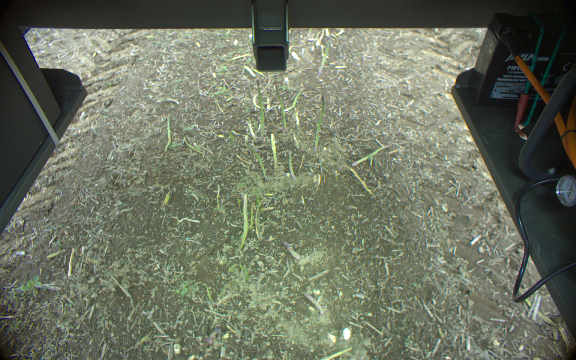aspa: (252, 75, 268, 140), (351, 141, 391, 167), (244, 143, 268, 183), (311, 93, 325, 158), (235, 194, 249, 250), (160, 111, 175, 157), (274, 85, 288, 134), (315, 33, 331, 74), (269, 133, 279, 174), (286, 149, 296, 182)
